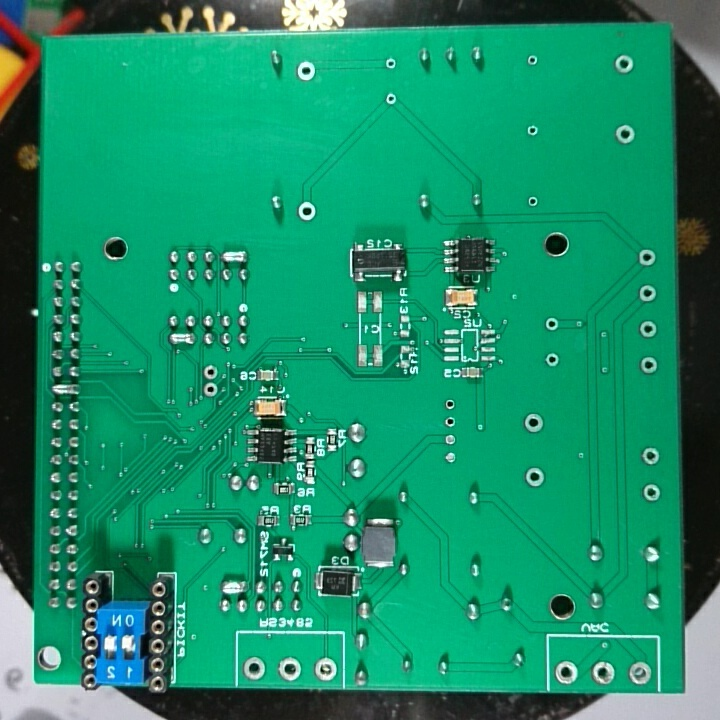F: (276, 655, 304, 683), (589, 660, 617, 686), (554, 659, 579, 687), (313, 657, 341, 682), (241, 655, 268, 680), (627, 660, 652, 686), (521, 466, 548, 490), (613, 53, 636, 79), (296, 198, 318, 225), (639, 445, 663, 469), (521, 412, 546, 435), (614, 123, 637, 147), (636, 282, 660, 305), (640, 481, 663, 505), (637, 319, 659, 342), (637, 353, 659, 375), (636, 247, 656, 270), (296, 59, 316, 81), (200, 380, 219, 399), (543, 352, 561, 370), (441, 449, 460, 466), (201, 364, 221, 380), (441, 413, 461, 429), (543, 316, 561, 333), (524, 123, 541, 140), (442, 396, 459, 413), (524, 52, 540, 69), (526, 194, 541, 212), (384, 55, 398, 73), (384, 90, 399, 106), (443, 432, 460, 445)
P: (217, 579, 250, 597), (220, 247, 250, 263), (49, 383, 81, 397), (168, 331, 196, 346)
